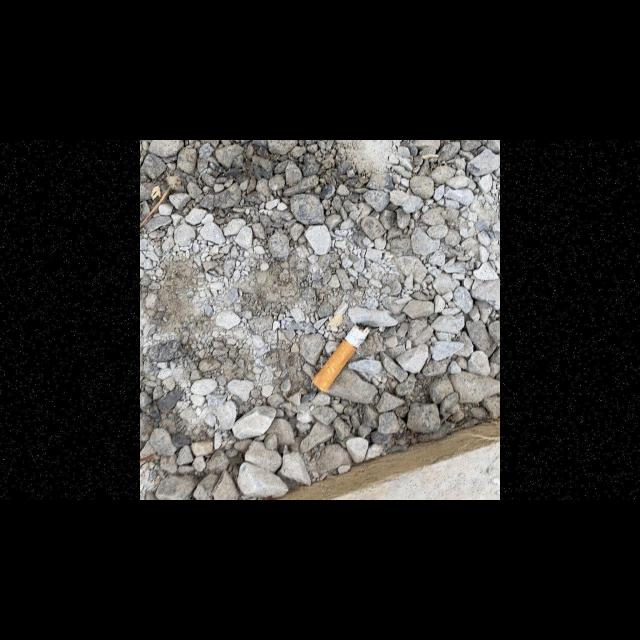cigarette: (310, 322, 372, 394)
